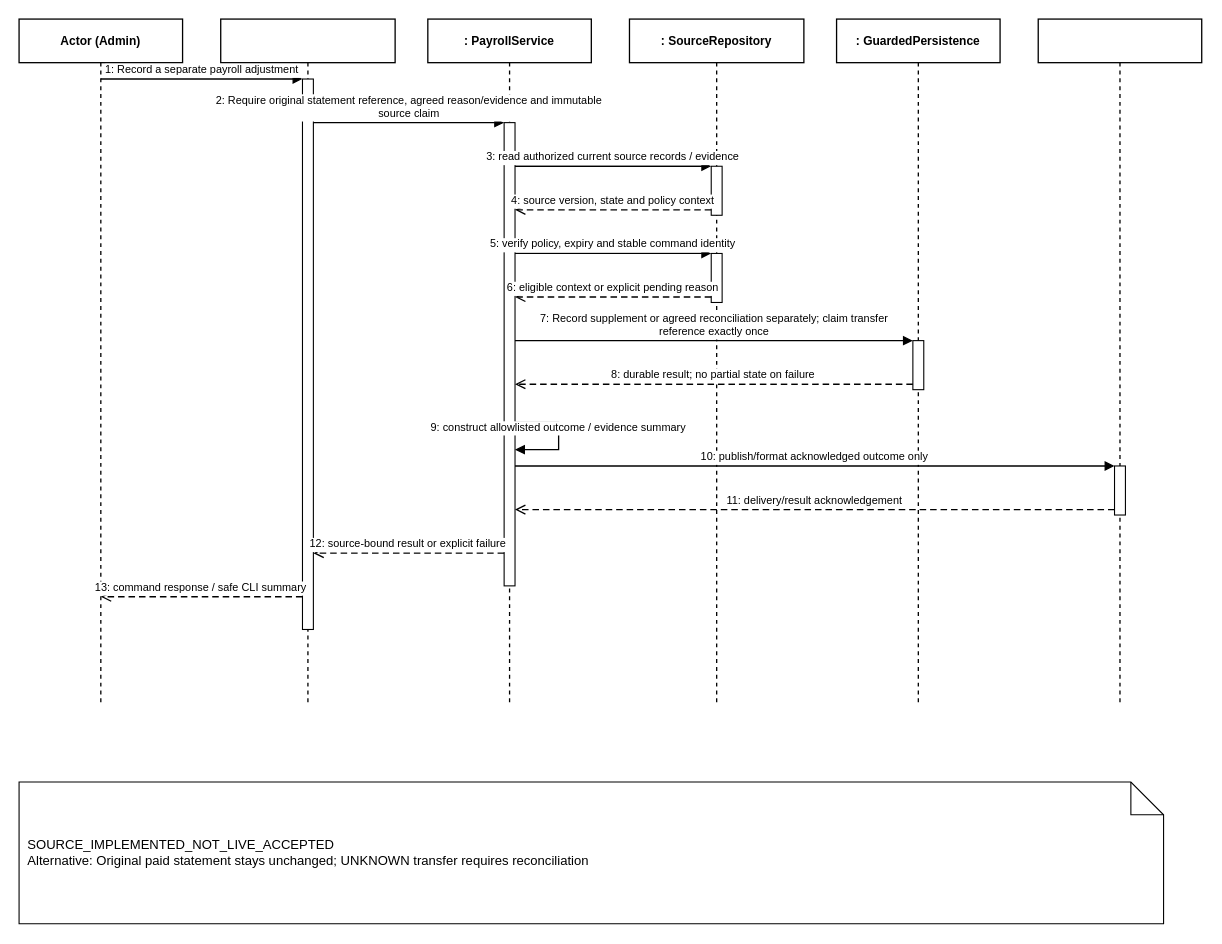
Image size: 1222x944. Some labels were removed from this diagram. The box of each missing label's shape, as (x1, y1, x2, y2) in pixels:
: CommandBoundary: (220, 18, 395, 706)
: Result / Delivery Port: (1037, 18, 1202, 706)
